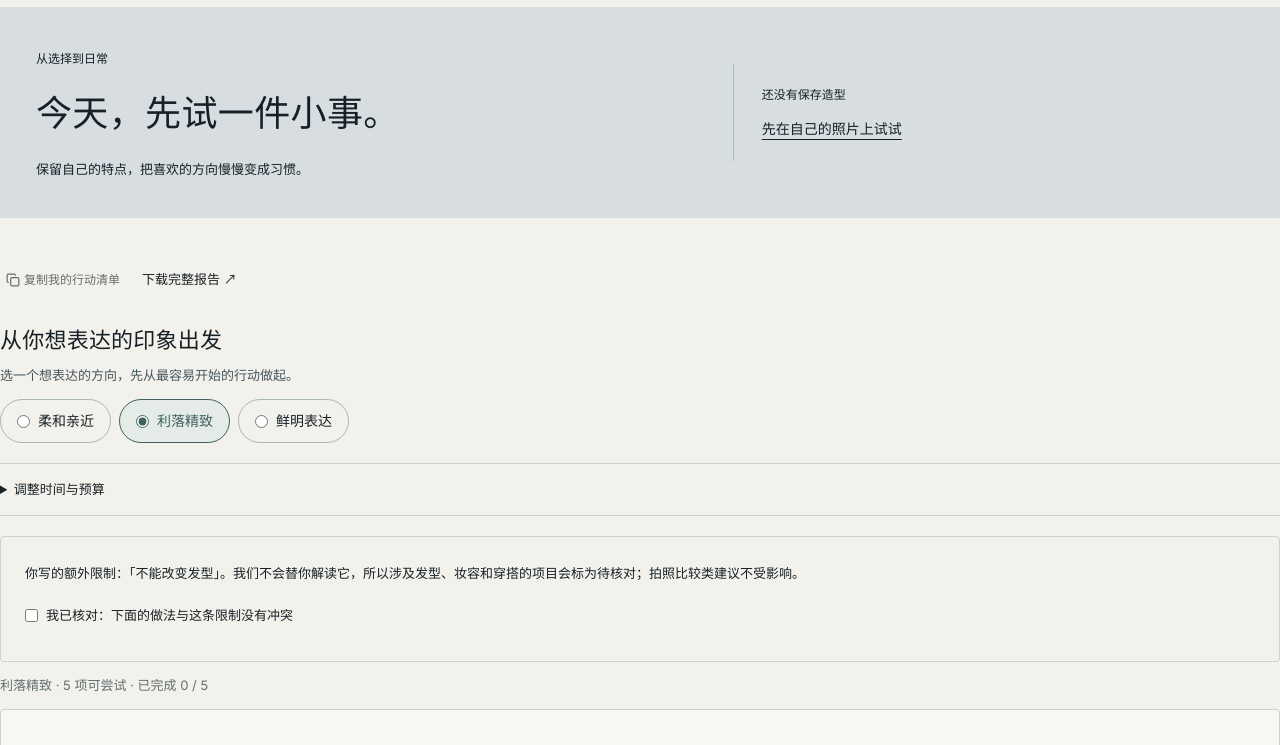
Test: plan decision key path › keeps the plan under a free-text restriction, unlocks on confirmation, and shows alternatives for skipped cards
Click the radio button labelled "鲜明表达" at coordinates (262, 421), box [255,415,268,428]
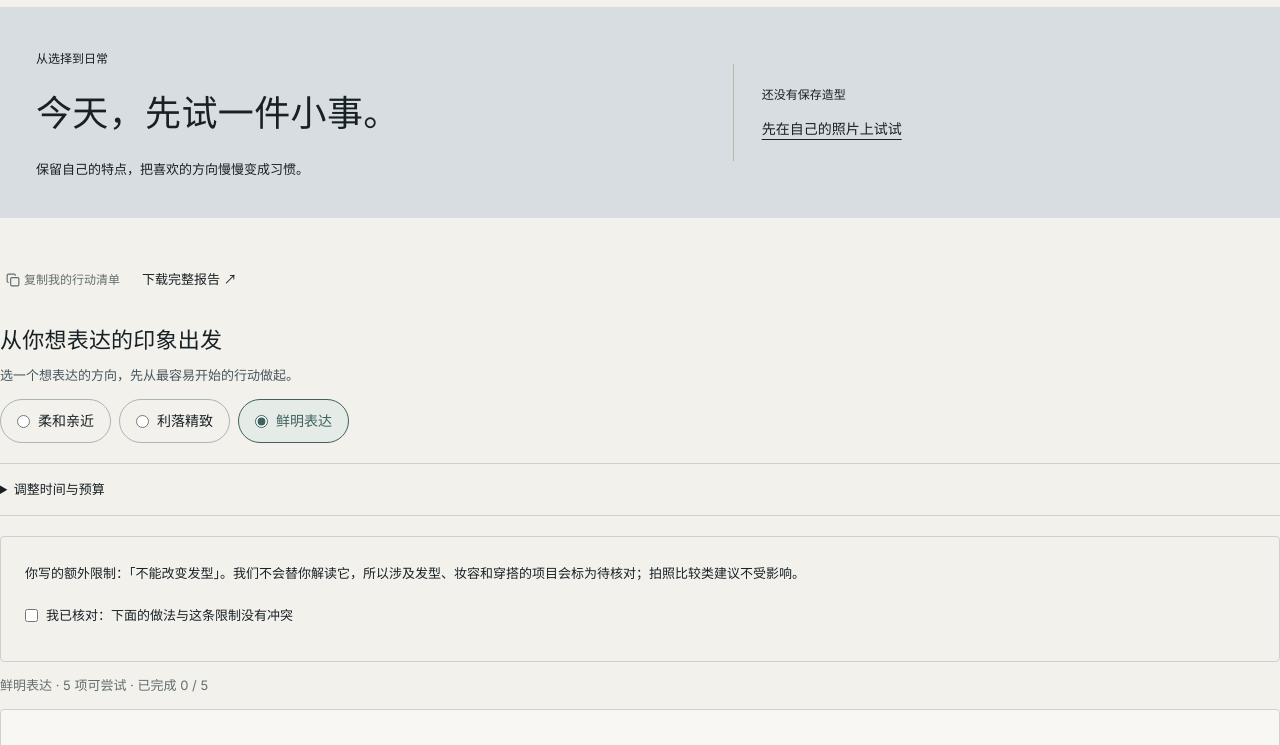
Click the checkbox labelled "我已核对：下面的做法与这条限制没有冲突" at coordinates (32, 615), box [25,609,38,622]
(page scrolled)
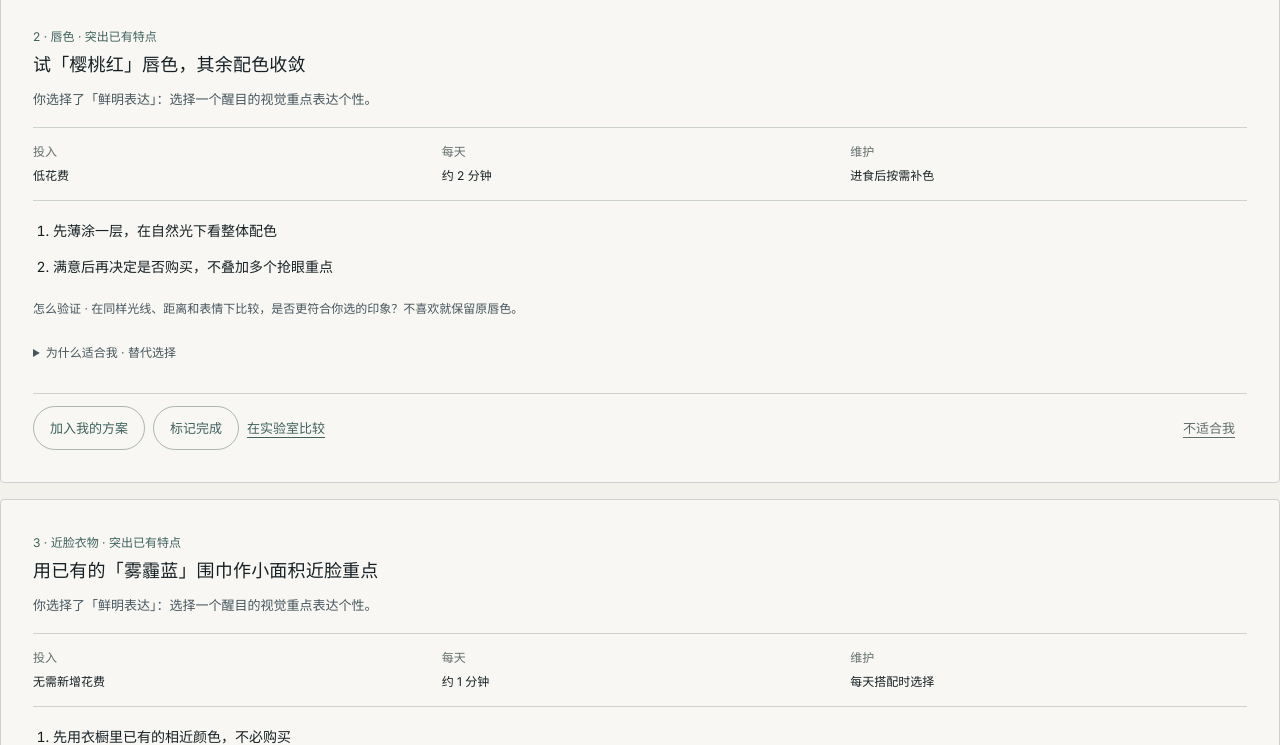
Expected: the button "加入我的方案" is enabled, [33,406,145,450]
Click the button "不适合我" at coordinates (1209, 428), box [1171,406,1247,450]
(page scrolled)
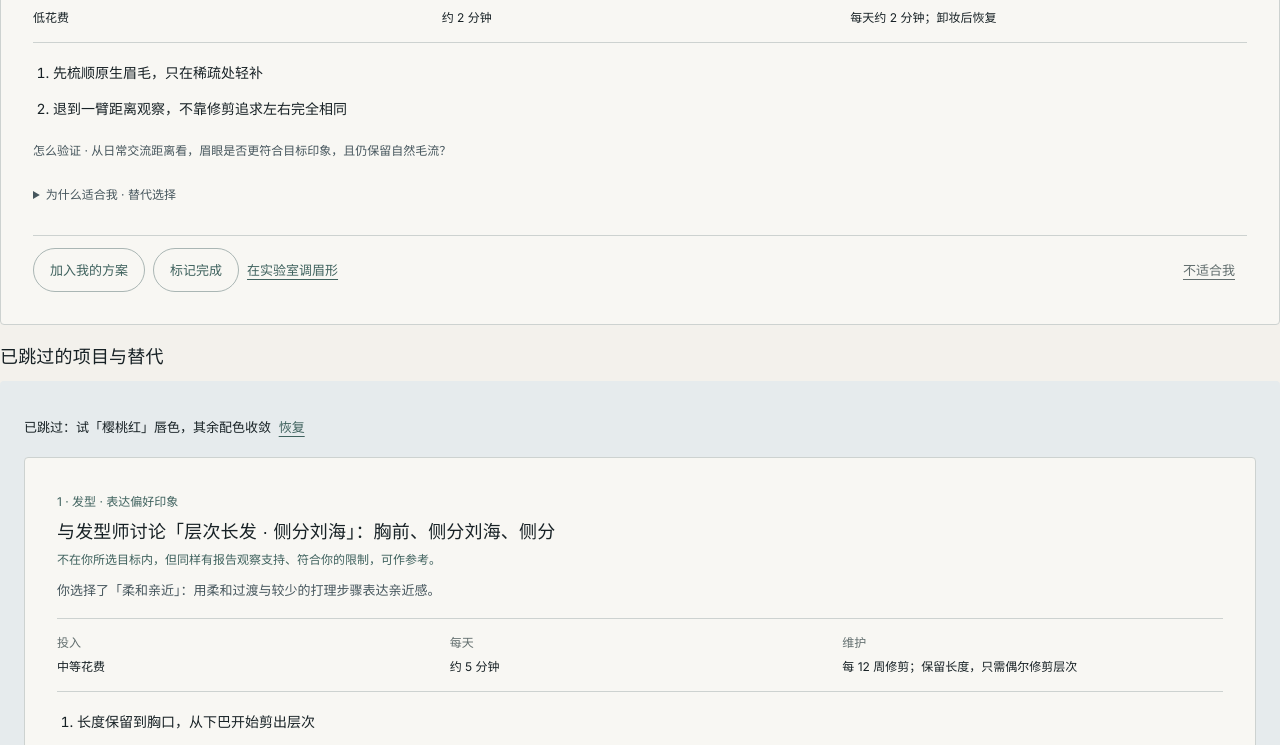
Click the button "恢复" at coordinates (292, 427), box [279,405,305,449]
(page scrolled)
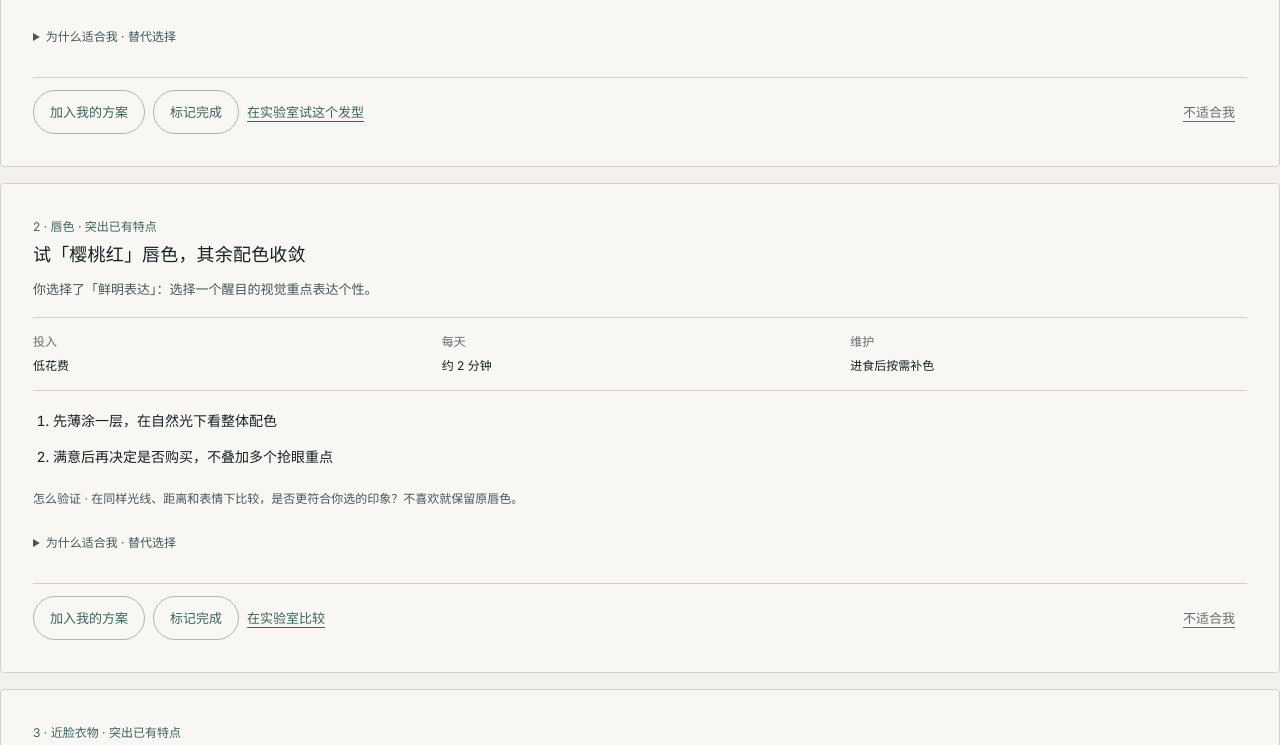
Expected: the element with test id "intervention-lip-statement" is shown
